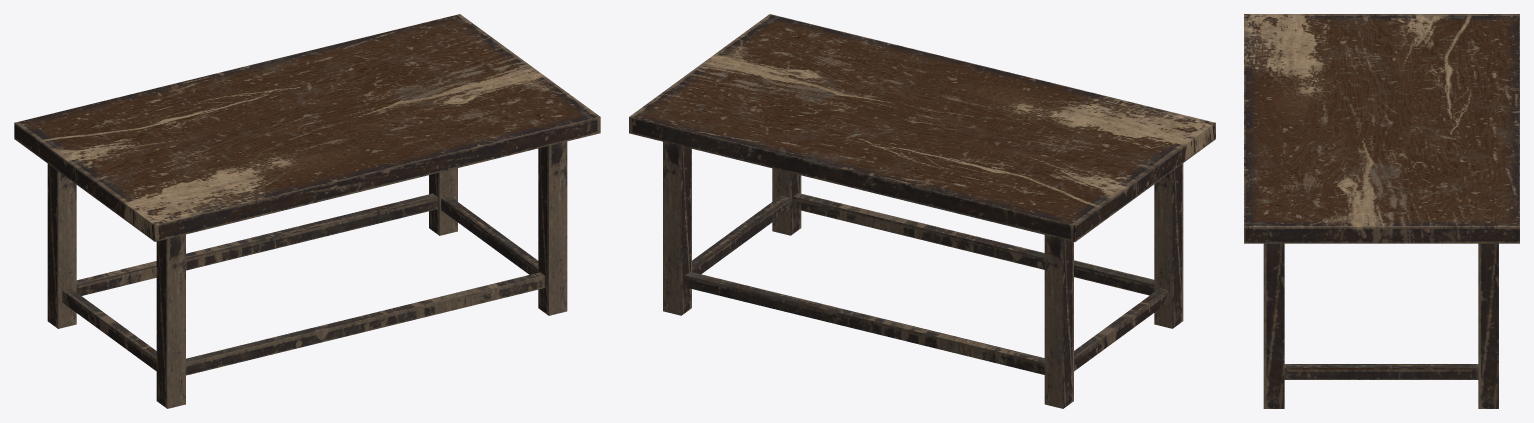
The model's file is TABLE.fbx.
The picture shows the model from 3 angles, left to right: view 1: azimuth 30°, elevation 25°; view 2: azimuth 150°, elevation 25°; view 3: azimuth 270°, elevation 25°; orthographic projection.
Visible parts, largest first — view 1: TABLE; view 2: TABLE; view 3: TABLE.
Part boxes in pixels (<box>): TABLE: <box>14,14,600,408</box>; TABLE: <box>629,14,1215,408</box>; TABLE: <box>1244,14,1519,408</box>.
Size of the model in its own units: 714 by 301 by 390.
